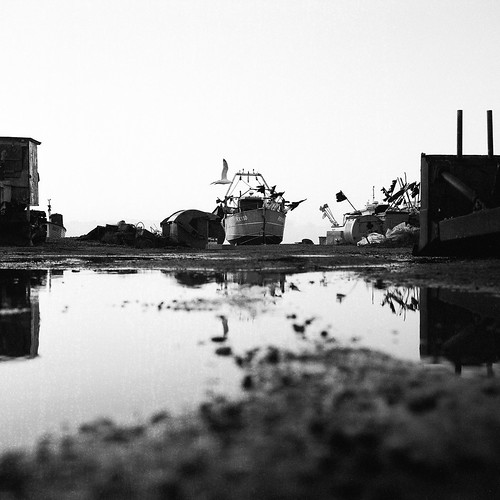animal: (211, 155, 233, 183)
boat: (212, 163, 290, 237)
sky: (5, 1, 500, 197)
